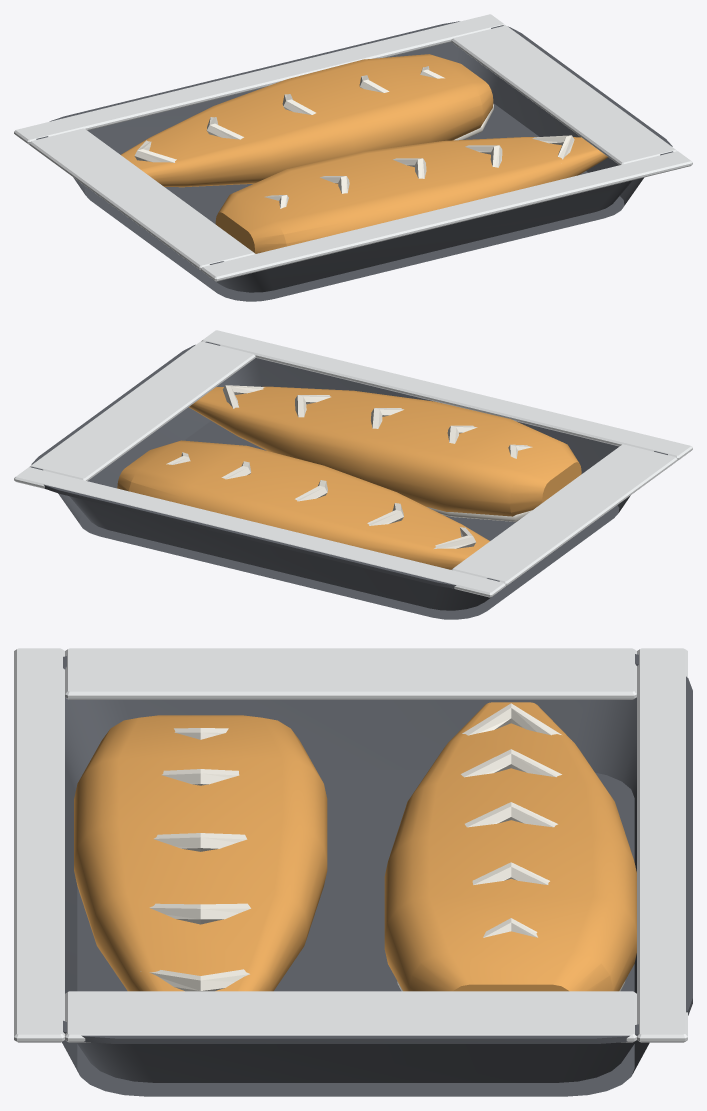
File: fresh-produce-and-groceries-salmon-fillet-tray-73aaa6f3__24407.glb
3 renders of one model, top to bottom at view 1: azimuth 30°, elevation 25°; view 2: azimuth 150°, elevation 25°; view 3: azimuth 270°, elevation 25°, orthographic. The views are drawn at different scales.
Visible parts, largest first — view 1: salmon-fillet-tray; view 2: salmon-fillet-tray; view 3: salmon-fillet-tray.
Boxes of the visible parts, <box> form: salmon-fillet-tray: <box>14,14,692,301</box>; salmon-fillet-tray: <box>14,330,692,619</box>; salmon-fillet-tray: <box>14,648,692,1096</box>.
Size of the model in its own units: 0.2262 by 0.0312 by 0.1662.
